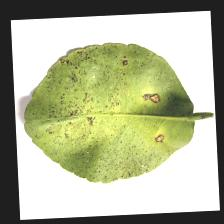canker: (37, 50, 168, 150)
